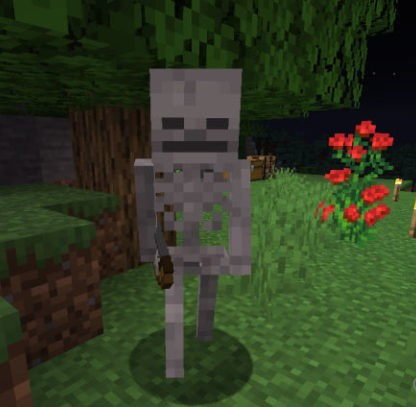skeleton: (134, 62, 253, 220)
